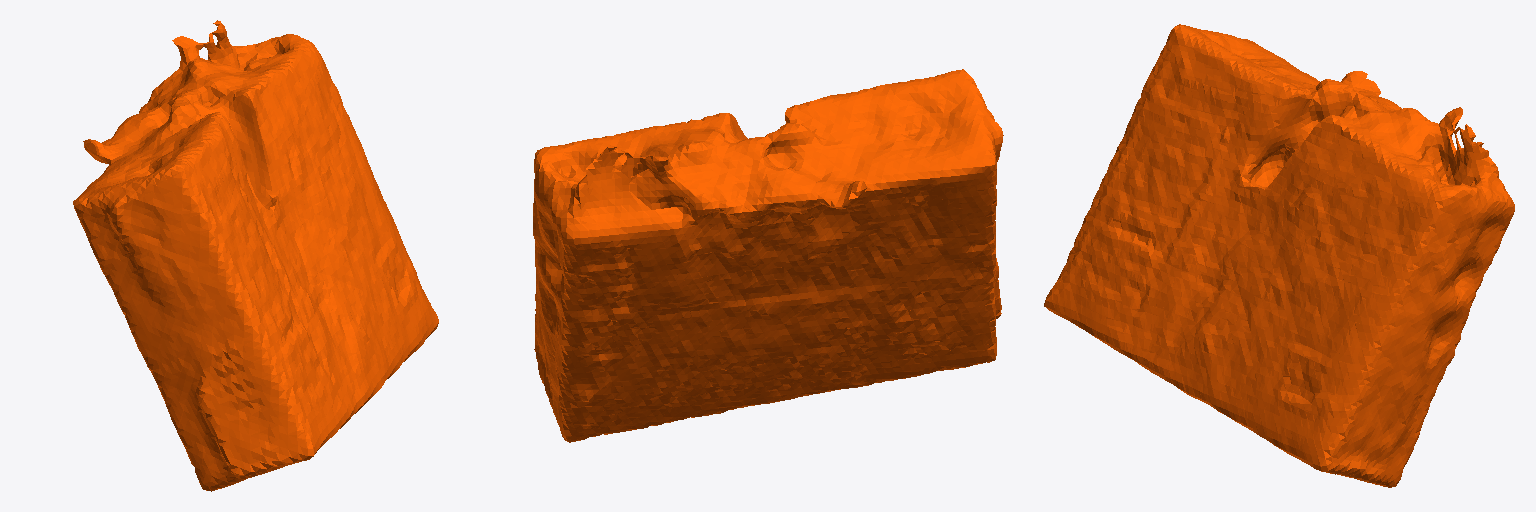
robot.urdf — cb20a1702:
<?xml version="1.0" ?>
<robot name="cb20a1702">
   <material name="obj_color">
      <color rgba="1.0 0.423529411765 0.0392156862745 1.0"/>
   </material>
   <link name="top">
      <inertial>
         <origin rpy="0.007486741016753647 0.012332865926594 0.01784769784112373" xyz="0.0005250608034298348 0.003314518784646421 0.0003474076107436607"/>
         <mass value="2.607288624727175"/>
         <inertia ixx="0.01185625564720452" ixy="-0.004529673897620838" ixz="0.001831219538265868" iyy="0.01221674766394503" iyz="-0.001470342818388532" izz="0.01359430147332183"/>
      </inertial>
      <visual>
         <origin rpy="0 0 0" xyz="0 0 0"/>
         <geometry>
            <mesh filename="top_watertight_tiny.stl" scale="1 1 1"/>
         </geometry>
         <material name="obj_color"/>
      </visual>
      <collision>
         <origin rpy="0 0 0" xyz="0 0 0"/>
         <geometry>
            <mesh filename="top_watertight_tiny.obj" scale="1 1 1"/>
         </geometry>
      </collision>
   </link>
   <link name="bottom">
      <inertial>
         <origin rpy="1.633333333199431e-08 1.633333333199431e-08 1.633333333362855e-08" xyz="0.3464080000000008 0.3464080000000008 0.3464080000000008"/>
         <mass value="0.0009800000000000017"/>
         <inertia ixx="1.633333333253906e-08" ixy="5.447480642029219e-19" ixz="5.447480642029219e-19" iyy="1.633333333253906e-08" iyz="5.447480642029219e-19" izz="1.633333333253906e-08"/>
      </inertial>
      <visual>
         <origin rpy="0 0 0" xyz="0 0 0"/>
         <geometry>
            <mesh filename="bottom_watertight_tiny.stl" scale="1 1 1"/>
         </geometry>
         <material name="obj_color"/>
      </visual>
   </link>
   <joint name="rotation" type="revolute">
      <origin xyz="0 0 0"/>
      <axis xyz="0 0 -1"/>
      <parent link="bottom"/>
      <child link="top"/>
      <dynamics damping="1.0" friction="1.0"/>
      <limit effort="0.1" velocity="0.1" lower="0" upper="0.001"/>
   </joint>
</robot>

--- Render facts (derived) ---
3 views of the same robot in one strip: view 1: azimuth 30°, elevation 25°; view 2: azimuth 150°, elevation 25°; view 3: azimuth 270°, elevation 25° (orthographic).
Robot: cb20a1702 — 2 links, 1 joints (1 revolute); root link bottom; default pose: all joints at 0.
Links seen in each view (by area): view 1: top; view 2: top; view 3: top.
Link boxes in pixels (box(x1,y1,x2,y2)): top: box(73, 20, 438, 491); top: box(533, 69, 1003, 442); top: box(1044, 24, 1514, 487).
Size in the robot's own frame: 0.2439 by 0.2541 by 0.1991 metres.
1 mesh visuals loaded from 2 distinct referenced files (1 binary STL); not drawn: 1 (reference not matched to a file when rendering).
